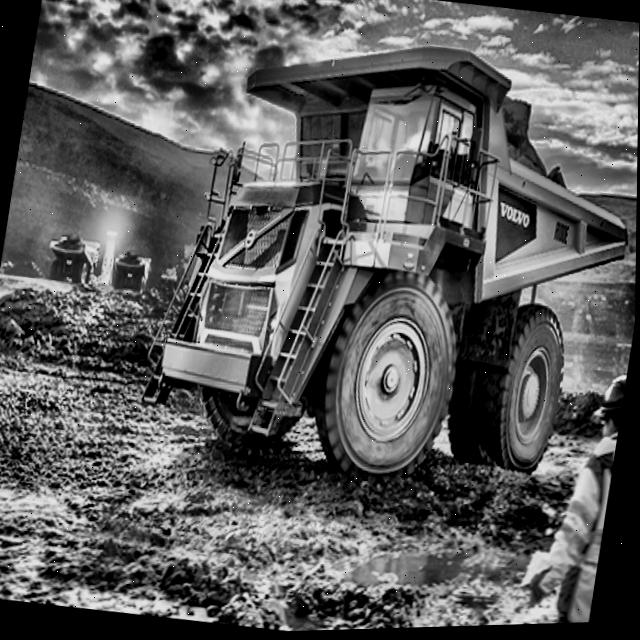dump_truck: (136, 0, 638, 520), (40, 213, 107, 289), (106, 228, 162, 300)
